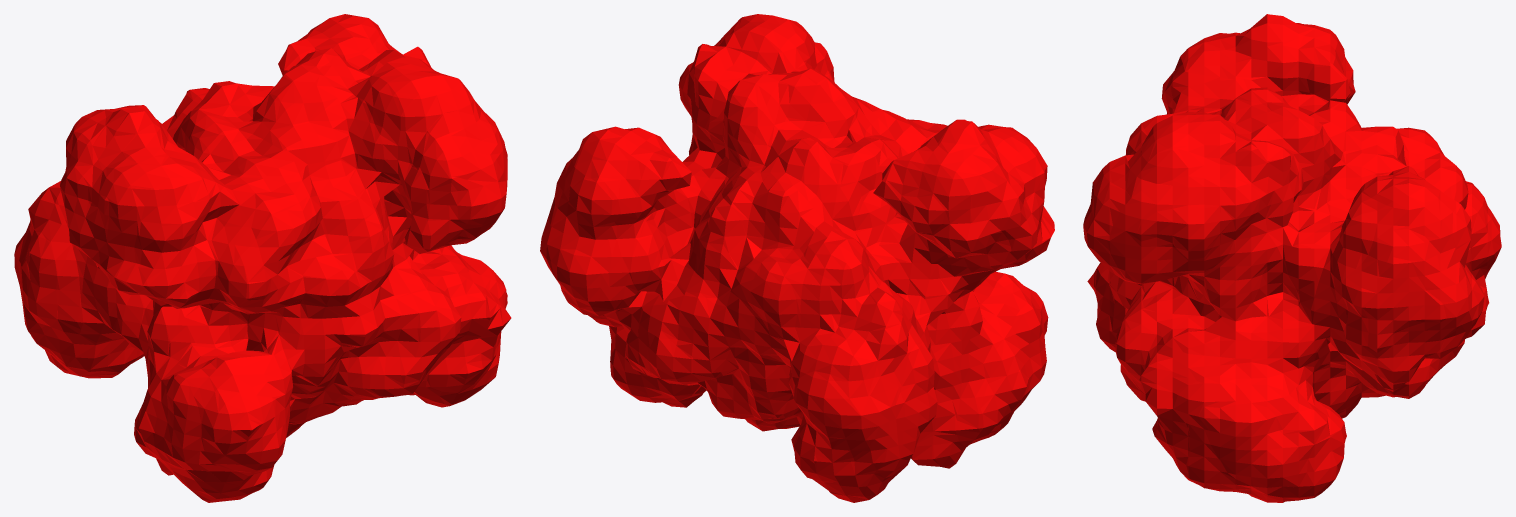
The model's file is gdhA_coarse.dae.
3 views of the same model, side by side, from view 1: azimuth 30°, elevation 25°; view 2: azimuth 150°, elevation 25°; view 3: azimuth 270°, elevation 25° (orthographic).
Parts seen in each view (by area): view 1: gdhA; view 2: gdhA; view 3: gdhA.
Part boxes in pixels (<box>): gdhA: <box>14,14,511,502</box>; gdhA: <box>540,14,1054,502</box>; gdhA: <box>1083,14,1501,502</box>.
Bounding box in the file's own units: 118 × 103 × 105.
